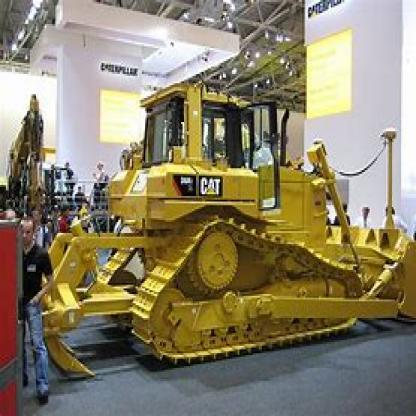bull_dozer/loader/grader: (35, 66, 414, 376)
